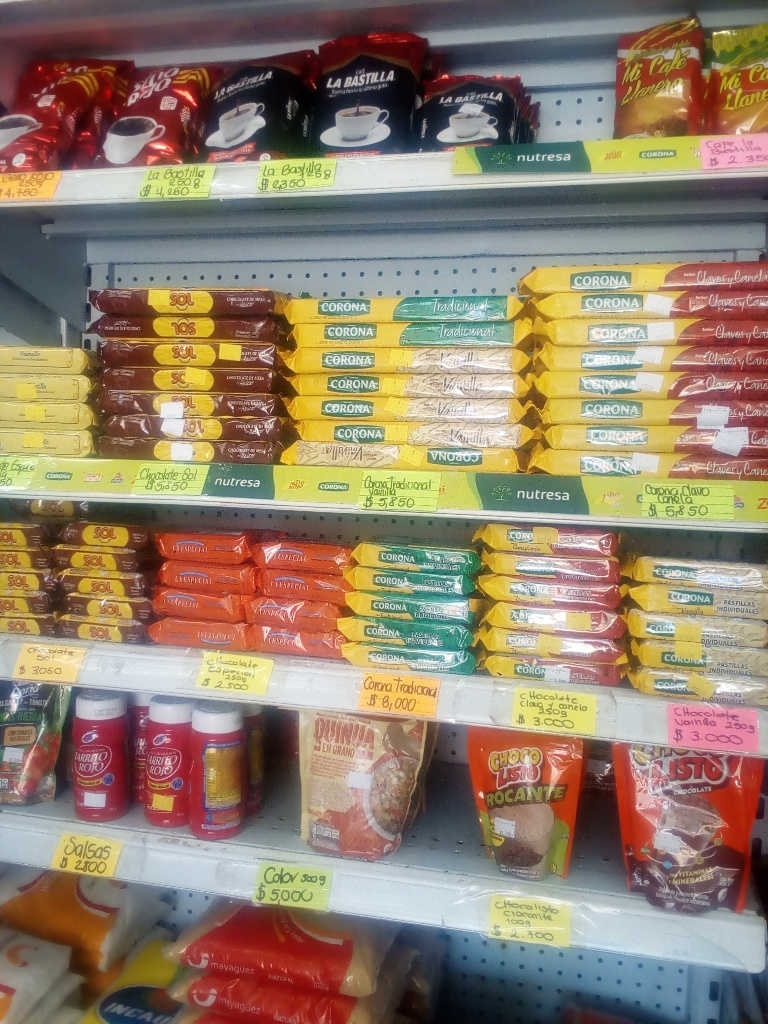COL0170102DYP10000: (468, 722, 587, 888)
COL0170103DYP20000: (612, 737, 753, 920)
